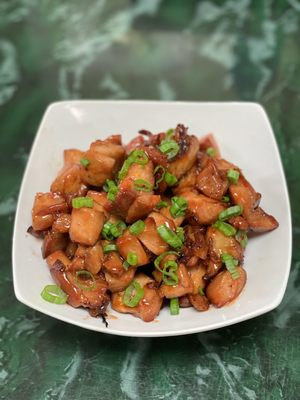curry: (169, 195, 188, 218)
sushi: (9, 98, 299, 398)
